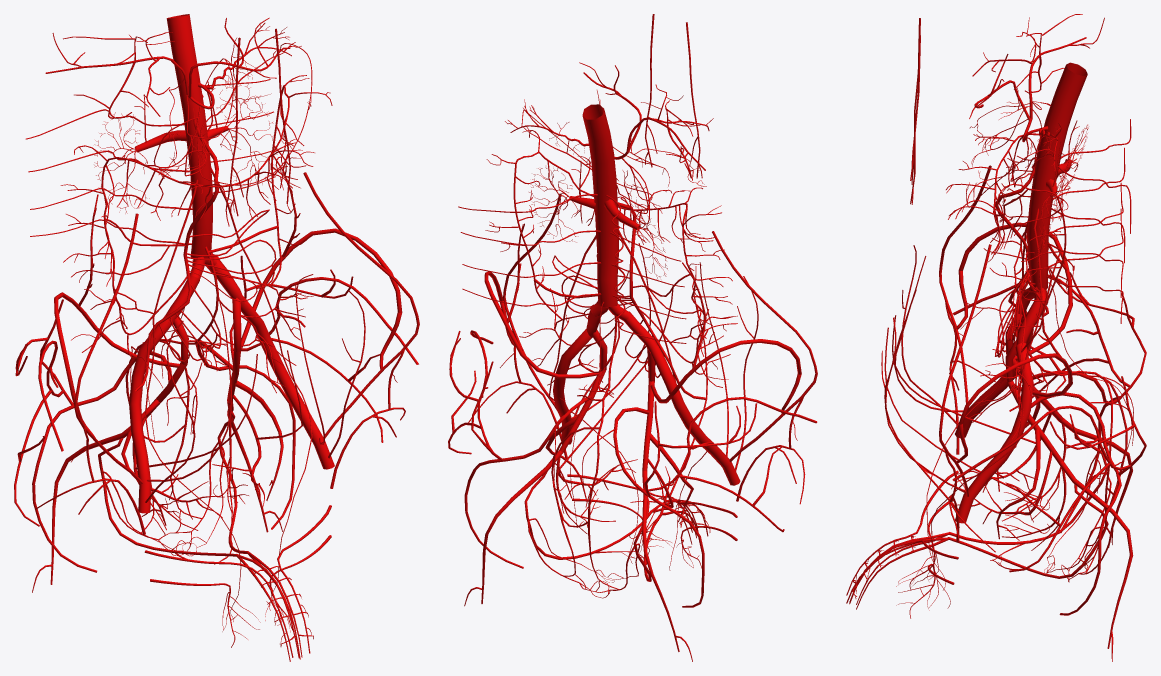
File: GI_tract_and_Sexual_organs_arteries.fbx
3 views of the same model, side by side, from view 1: azimuth 30°, elevation 25°; view 2: azimuth 150°, elevation 25°; view 3: azimuth 270°, elevation 25° (orthographic). The views are drawn at different scales.
Parts seen in each view (by area): view 1: Aorta_descending_abdominal, Superior_gluteal_L, Superior_gluteal_R, External_iliac_R, External_iliac_L, Middle_colic, Jejunal_and_ileal_branches, Deep_cirumflex_iliac_L, Iliolumbar_RIliolumbar_L, Iliolumbar_RIliolumbar_R, Proper_hepatic_right_branch, Deep_cirumflex_iliac_R (+11 smaller); view 2: Aorta_descending_abdominal, Superior_gluteal_R, Superior_gluteal_L, External_iliac_R, Middle_colic, Deep_cirumflex_iliac_R, Iliolumbar_RIliolumbar_L, Iliolumbar_RIliolumbar_R, Superior_rectal, External_iliac_L, Lumbar_Lumbar_L, Proper_hepatic_right_branch (+11 smaller); view 3: Aorta_descending_abdominal, Superior_gluteal_L, Superior_gluteal_R, External_iliac_L, Middle_colic, Iliolumbar_RIliolumbar_L, Deep_cirumflex_iliac_R, Deep_cirumflex_iliac_L, Iliolumbar_RIliolumbar_R, Proper_hepatic_right_branch, Superior_rectal, Jejunal_and_ileal_branches (+19 smaller).
Boxes of the visible parts, left/top/right/bottom form: Aorta_descending_abdominal: left=166, top=14, right=218, bottom=278; Superior_gluteal_L: left=195, top=255, right=418, bottom=529; Superior_gluteal_R: left=14, top=299, right=171, bottom=572; External_iliac_R: left=129, top=315, right=171, bottom=513; External_iliac_L: left=241, top=296, right=334, bottom=469; Middle_colic: left=74, top=92, right=332, bottom=226; Jejunal_and_ileal_branches: left=159, top=209, right=276, bottom=361; Deep_cirumflex_iliac_L: left=303, top=172, right=419, bottom=438; Iliolumbar_RIliolumbar_L: left=241, top=152, right=402, bottom=350; Iliolumbar_RIliolumbar_R: left=54, top=194, right=179, bottom=392; Proper_hepatic_right_branch: left=45, top=32, right=188, bottom=118; Deep_cirumflex_iliac_R: left=71, top=213, right=142, bottom=483; Aorta_descending_abdominal: left=582, top=104, right=629, bottom=321; Superior_gluteal_R: left=613, top=396, right=817, bottom=607; Superior_gluteal_L: left=448, top=330, right=592, bottom=568; External_iliac_R: left=650, top=346, right=740, bottom=485; Middle_colic: left=522, top=130, right=721, bottom=251; Deep_cirumflex_iliac_R: left=712, top=231, right=817, bottom=462; Iliolumbar_RIliolumbar_L: left=484, top=223, right=599, bottom=378; Iliolumbar_RIliolumbar_R: left=650, top=262, right=801, bottom=403; Superior_rectal: left=551, top=369, right=610, bottom=556; External_iliac_L: left=553, top=328, right=591, bottom=444; Lumbar_Lumbar_L: left=458, top=194, right=601, bottom=306; Proper_hepatic_right_branch: left=626, top=84, right=713, bottom=180; Aorta_descending_abdominal: left=1022, top=62, right=1087, bottom=304; Superior_gluteal_L: left=952, top=376, right=1146, bottom=615; Superior_gluteal_R: left=952, top=269, right=1146, bottom=532; External_iliac_L: left=955, top=343, right=1033, bottom=523; Middle_colic: left=946, top=101, right=1050, bottom=254; Iliolumbar_RIliolumbar_L: left=958, top=252, right=1072, bottom=424; Deep_cirumflex_iliac_R: left=939, top=165, right=991, bottom=407; Deep_cirumflex_iliac_L: left=939, top=244, right=991, bottom=501; Iliolumbar_RIliolumbar_R: left=959, top=174, right=1072, bottom=359; Proper_hepatic_right_branch: left=972, top=14, right=1104, bottom=118; Superior_rectal: left=1034, top=360, right=1127, bottom=524; Jejunal_and_ileal_branches: left=995, top=251, right=1039, bottom=357.
Bounding box in the file's own units: 27.21 × 43.01 × 20.26.
